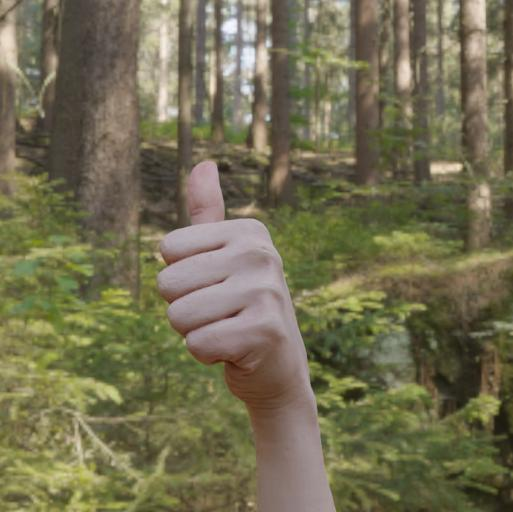thumbs-up: (153, 151, 314, 399)
